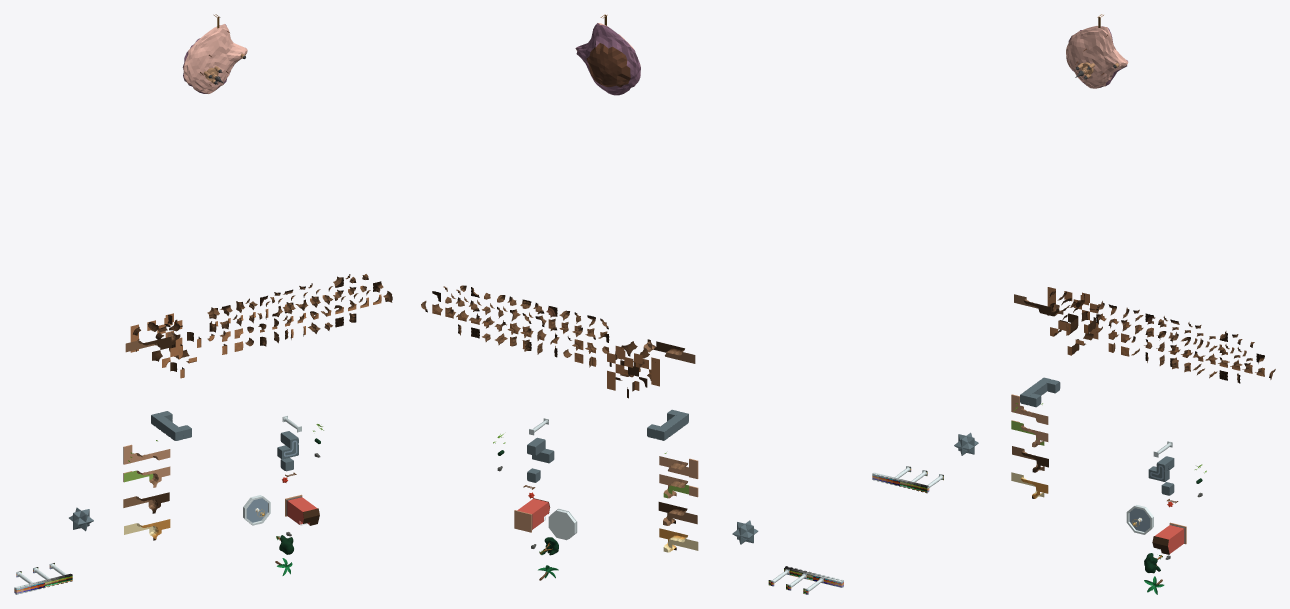
File: rocks.glb
The picture shows the model from 3 angles, left to right: view 1: azimuth 30°, elevation 25°; view 2: azimuth 150°, elevation 25°; view 3: azimuth 330°, elevation 25°; orthographic projection. The views are drawn at different scales.
Visible parts, largest first — view 1: Cylinder.001, House, Fountain, WeirdCubeCorner; view 2: Cylinder.001, Fountain, Full.005, Full.007, Terrain; view 3: Cylinder.001, House, Fountain.
Part boxes in pixels (box(x1,y1,x2,y2)): Cylinder.001: box(182, 24, 247, 93); House: box(286, 496, 319, 525); Fountain: box(243, 495, 270, 525); WeirdCubeCorner: box(277, 431, 298, 459); Cylinder.001: box(575, 23, 640, 95); Fountain: box(548, 508, 577, 540); Full.005: box(659, 474, 698, 498); Full.007: box(659, 528, 698, 552); Terrain: box(658, 502, 697, 525); Cylinder.001: box(1066, 26, 1128, 88); House: box(1152, 524, 1185, 554); Fountain: box(1126, 505, 1153, 534).
Bounding box in the file's own units: 93.37 × 130 × 15.22.
Materials: 4 (4 with a texture image).
